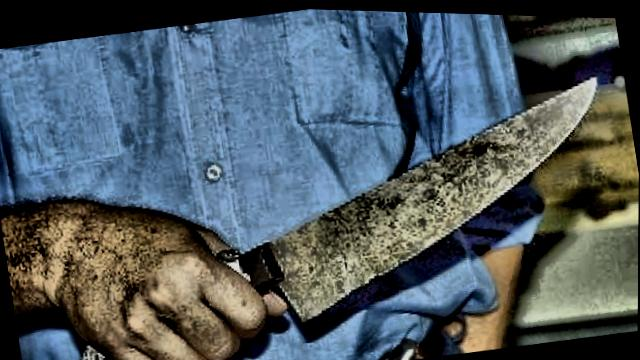knife: (124, 54, 640, 360)
